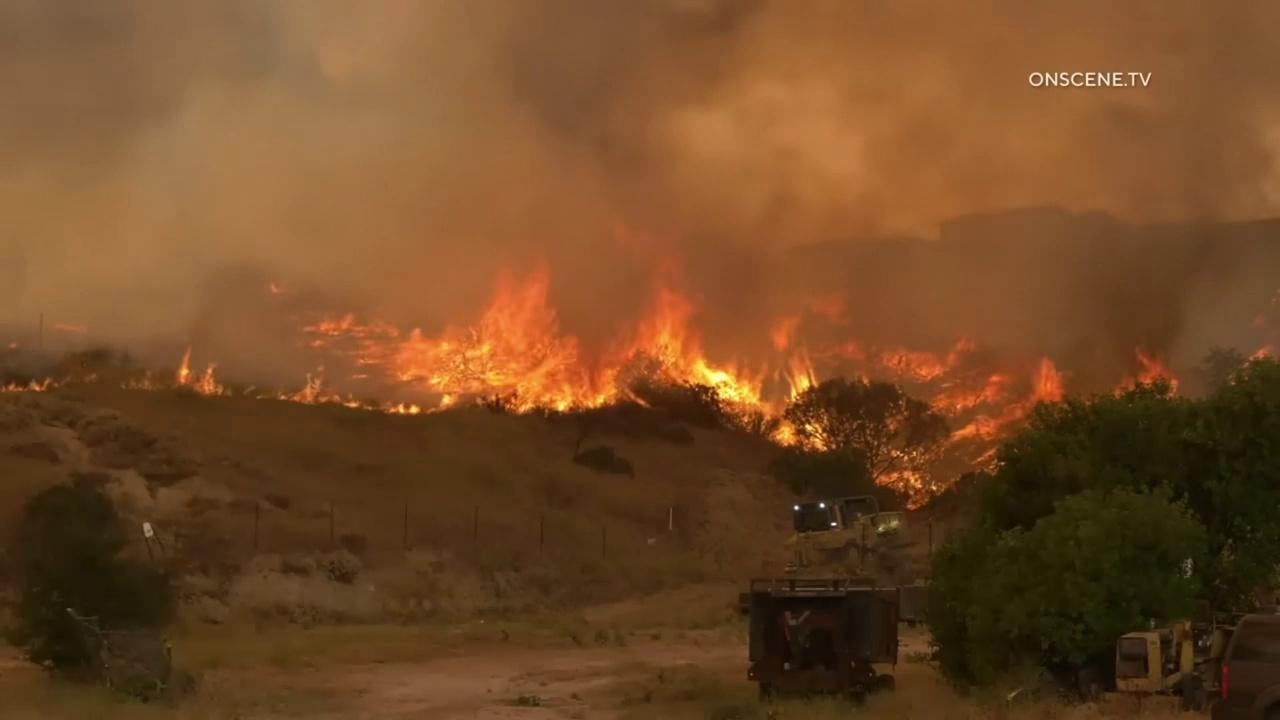fire: (277, 222, 836, 453), (838, 332, 1065, 512), (1113, 342, 1180, 403), (173, 343, 226, 398), (0, 376, 63, 393), (1247, 343, 1275, 363), (53, 323, 87, 333), (267, 281, 281, 294), (7, 341, 18, 350)
smoke: (0, 0, 1280, 408)
